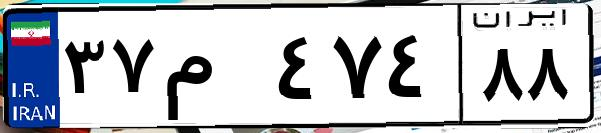3: (57, 26, 110, 100)
4: (270, 28, 330, 110), (385, 28, 445, 110)
7: (330, 28, 385, 110), (110, 28, 158, 98)
8: (475, 38, 525, 113), (525, 38, 570, 115)
م: (158, 20, 270, 120)
